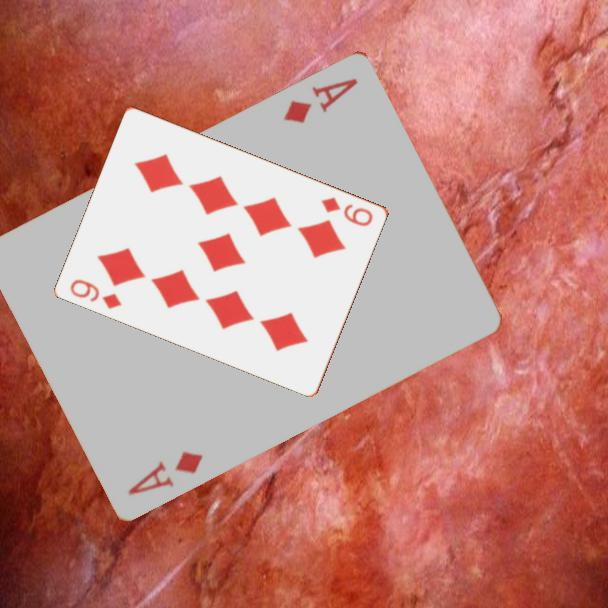d01: (279, 74, 361, 126), (124, 447, 206, 498)
d09: (67, 275, 125, 312), (318, 193, 376, 229)
